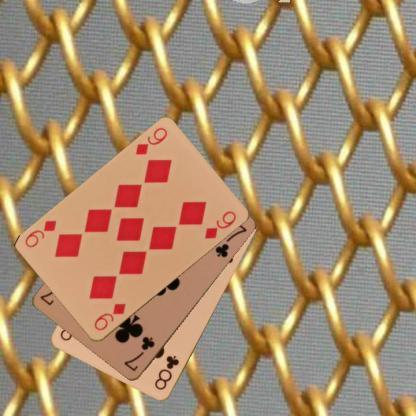7c: (121, 334, 156, 374)
8c: (152, 353, 180, 392)
9d: (132, 125, 169, 158), (91, 300, 127, 333)
